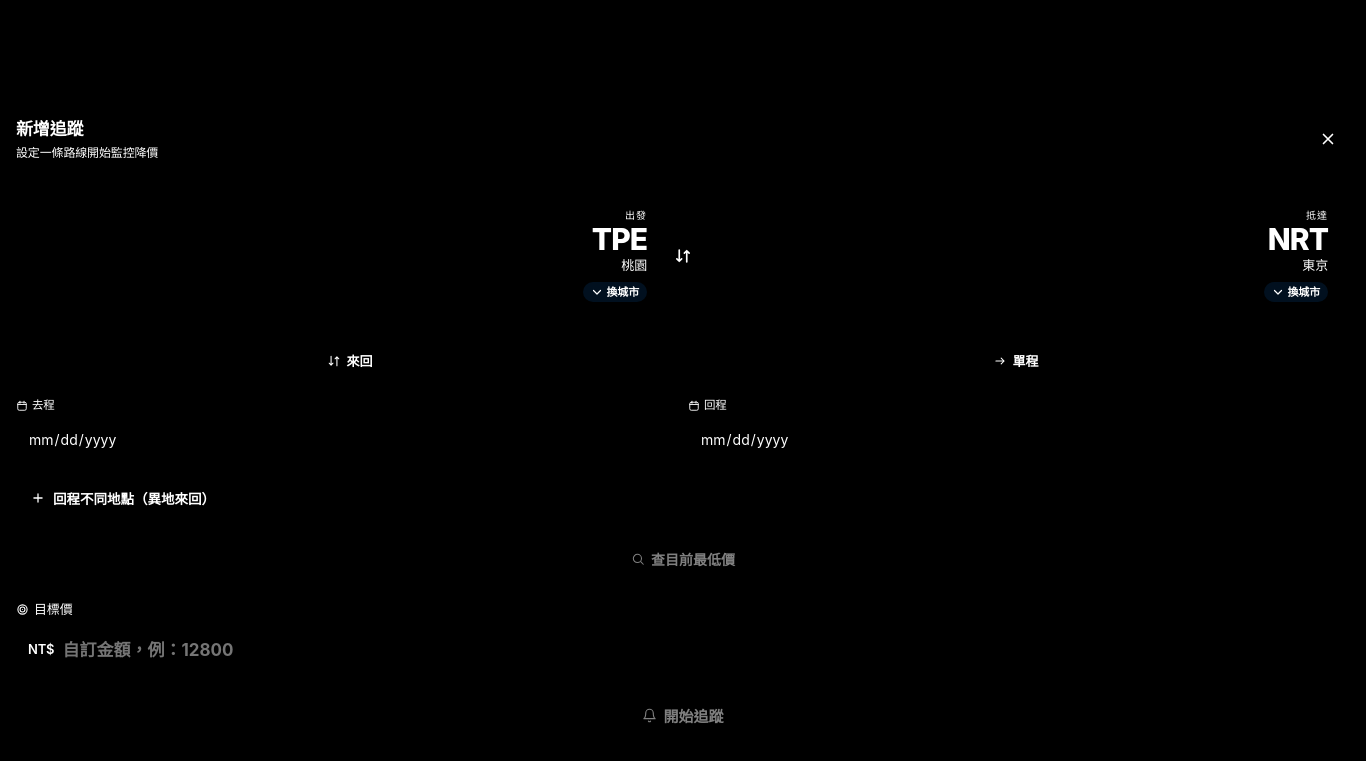
Scenario: AddWatchSheet — 開口式來回（0015） › 開口式：預覽 → 送 paired:true legs、顯示「去+回 兩段相加」最低總價
Type "2026-09-01" into the date field labelled "去程".
click(347, 439); type("2026-09-01")  # box [16, 418, 678, 460]
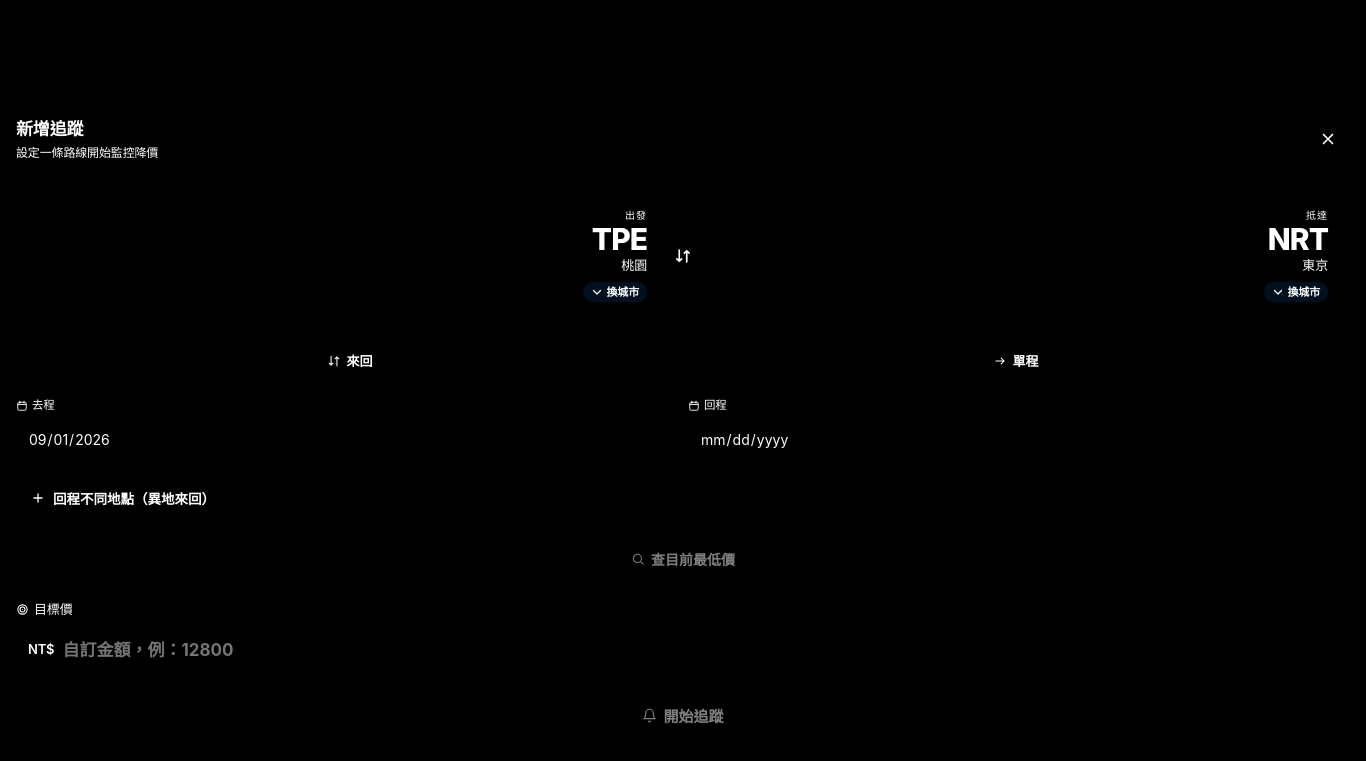
Type "2026-09-05" into the date field labelled "回程".
click(1019, 439); type("2026-09-05")  # box [688, 418, 1350, 460]
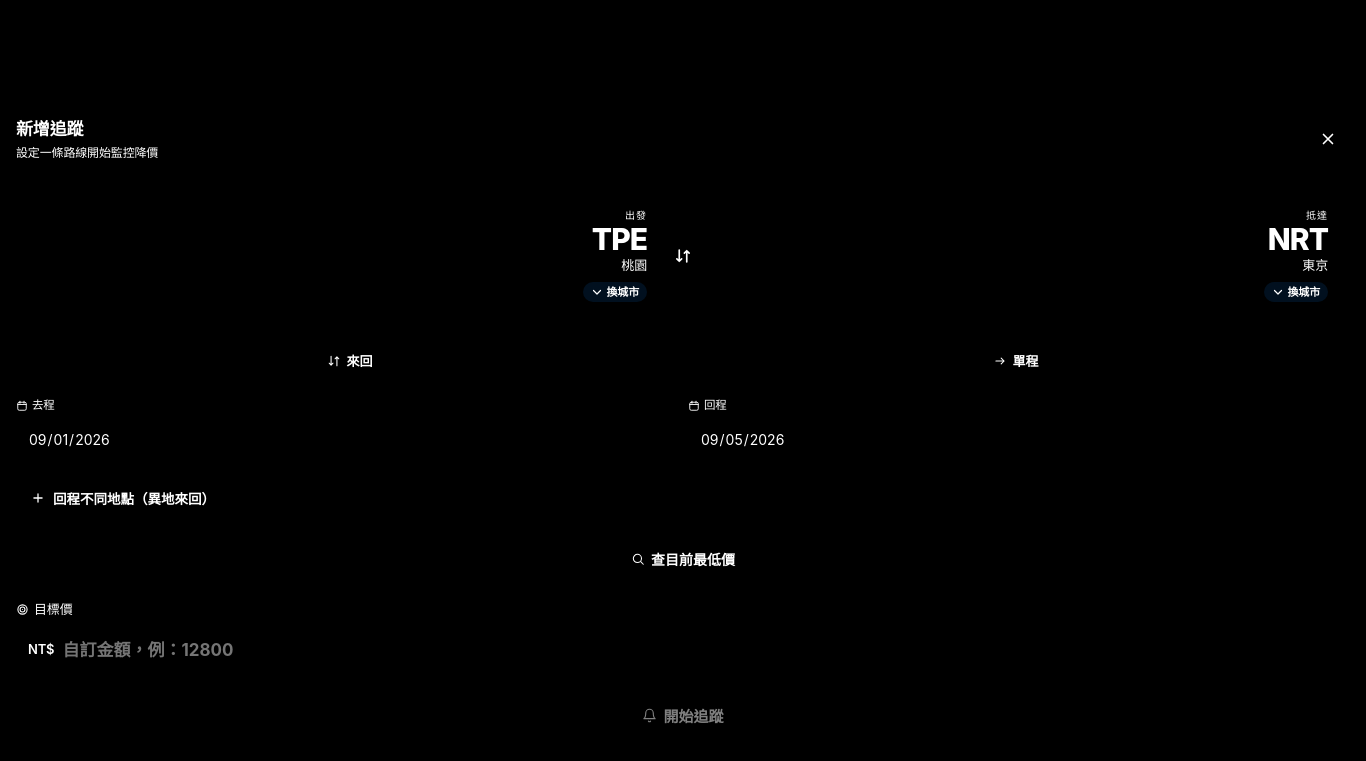
Click the button with test id "openjaw-toggle".
click(134, 498)  # box [16, 476, 1350, 520]
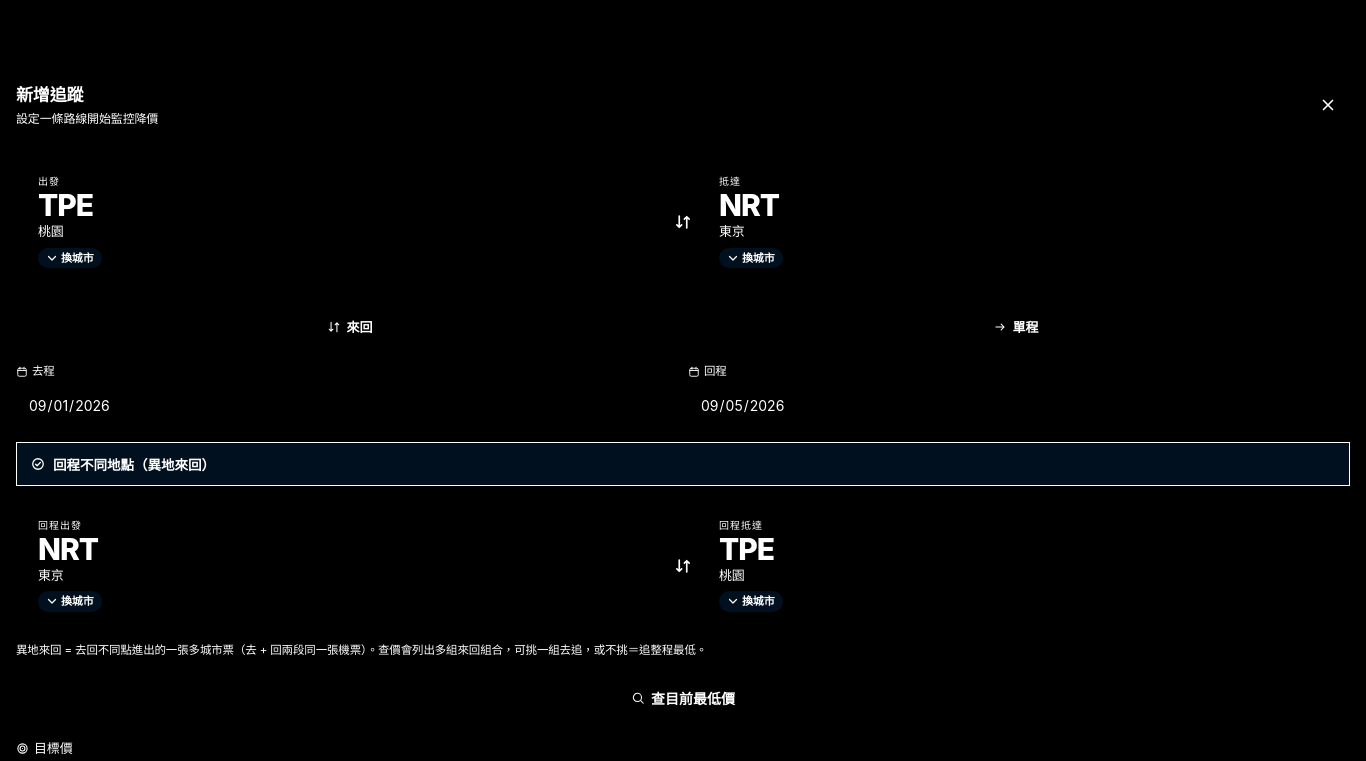
Expected: the button "查目前最低價" is enabled
Click the button "查目前最低價".
click(683, 698)  # box [16, 675, 1350, 721]
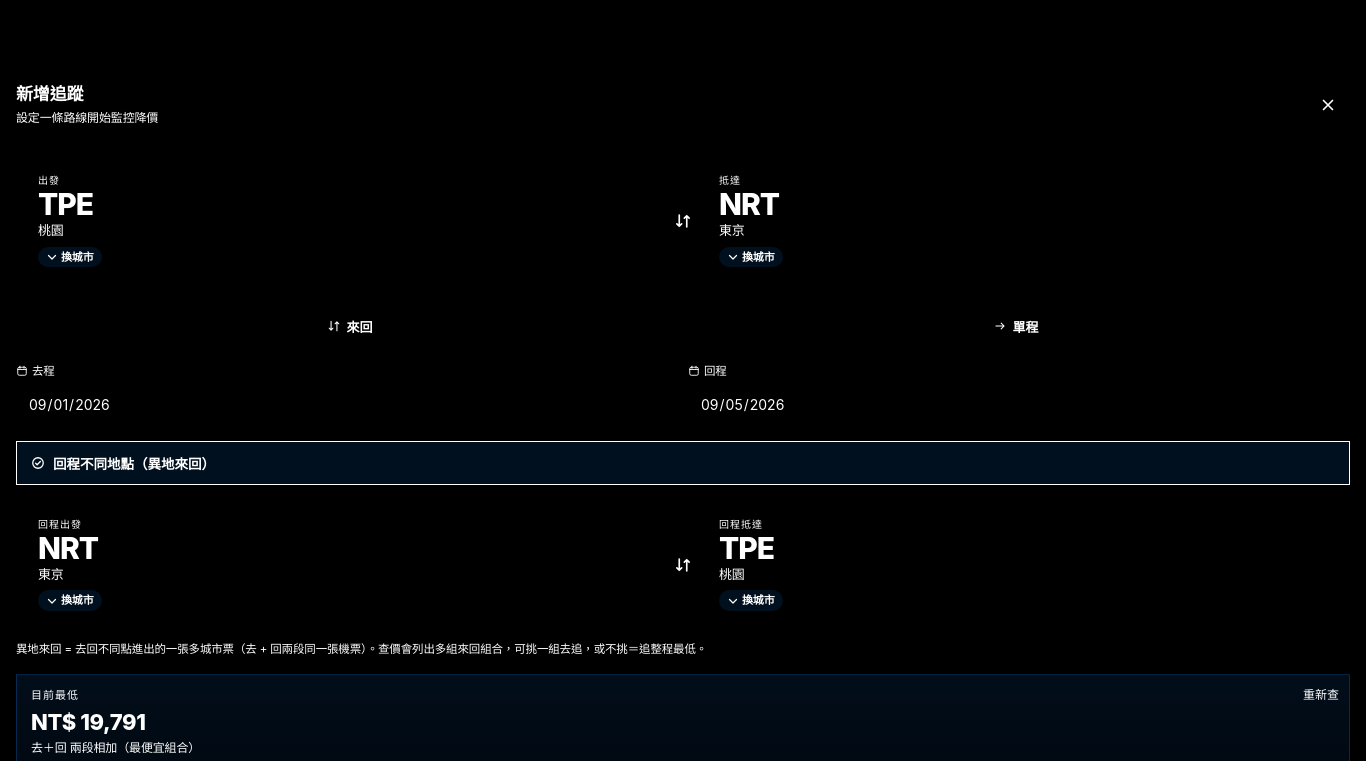
Expected: the text "19,791" is shown, [31, 709, 146, 735]
Expected: the text "兩段相加" is shown, [31, 740, 200, 755]
